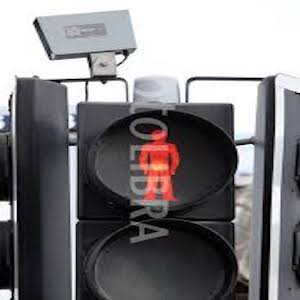red: (137, 128, 185, 204)
